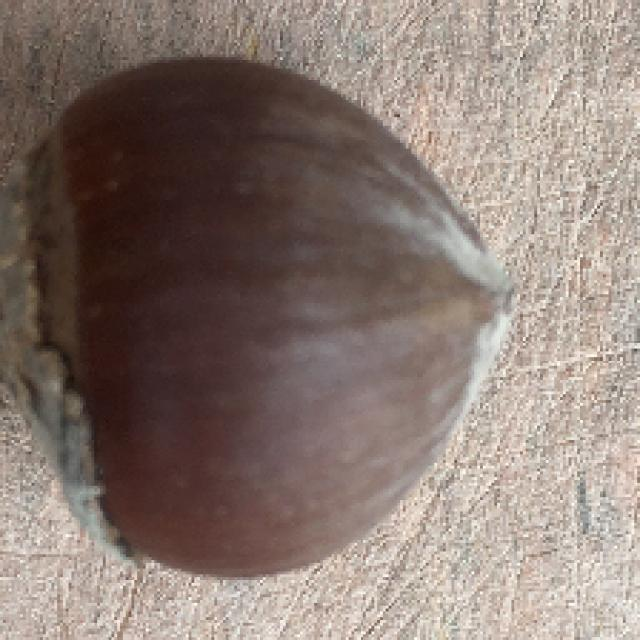DamagedHazelnut: (0, 57, 518, 571)
